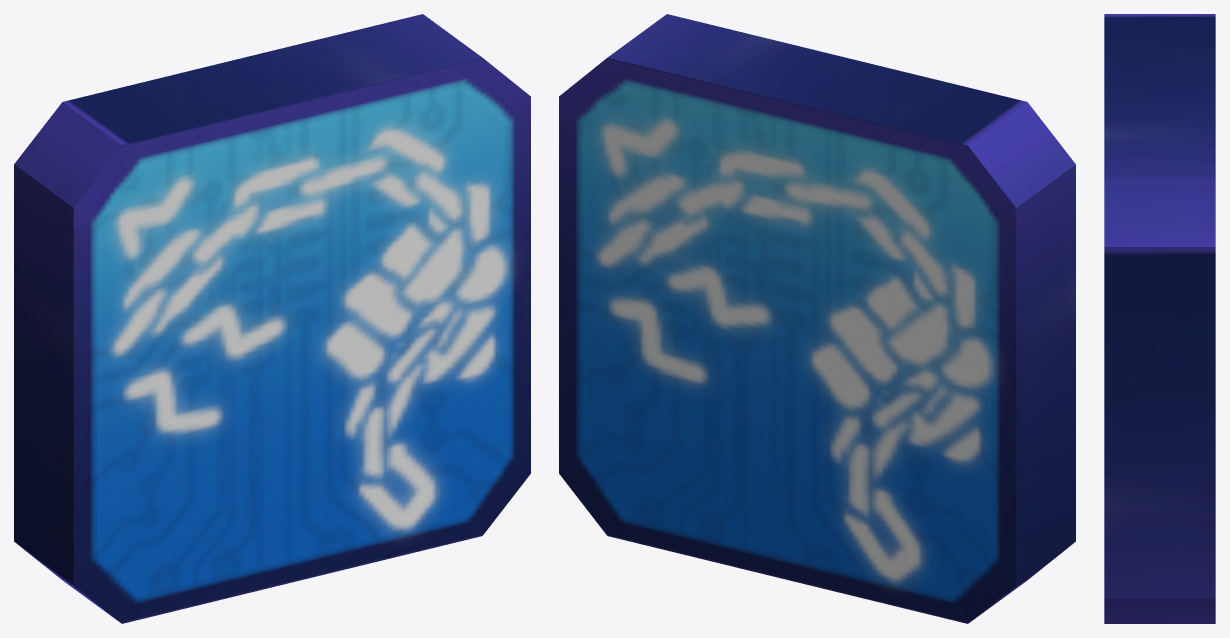
File: GUI_Icon.FBX
3 views of the same model, side by side, from view 1: azimuth 30°, elevation 25°; view 2: azimuth 150°, elevation 25°; view 3: azimuth 270°, elevation 25° (orthographic). The views are drawn at different scales.
Visible parts, largest first — view 1: GUI_Icon; view 2: GUI_Icon; view 3: GUI_Icon.
Boxes of the visible parts, left/top/right/bottom form: GUI_Icon: left=14, top=14, right=530, bottom=623; GUI_Icon: left=559, top=14, right=1075, bottom=623; GUI_Icon: left=1104, top=14, right=1215, bottom=623.
Size of the model in its own units: 100 by 100 by 22.6.
Materials: 1 (1 with a texture image).
